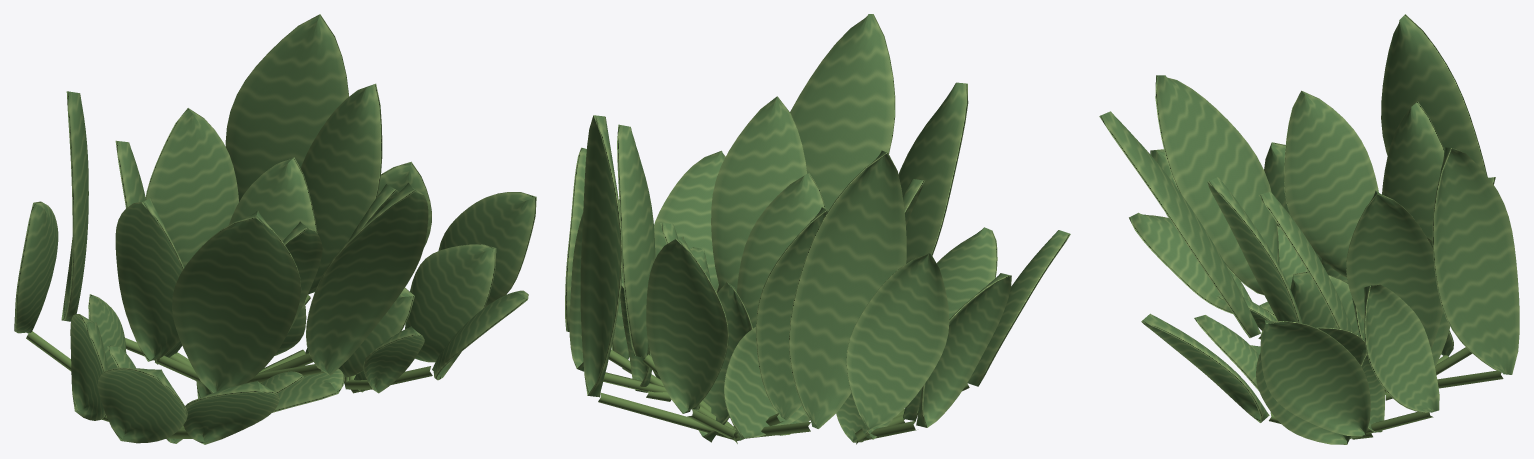
File: sansevieria-stage-7.glb
3 renders of one model, left to right at view 1: azimuth 30°, elevation 25°; view 2: azimuth 150°, elevation 25°; view 3: azimuth 270°, elevation 25°, orthographic. The views are drawn at different scales.
Parts seen in each view (by area): view 1: Leaf_20, Leaf_21, Leaf_23, Leaf_11, Leaf_9, Leaf_10, Leaf_28, Leaf_31, Leaf_26, Leaf_6, Leaf_24, Leaf_27 (+14 smaller); view 2: Leaf_22, Leaf_23, Leaf_27, Leaf_9, Leaf_8, Leaf_21, Leaf_20, Leaf_5, Leaf_11, Leaf_25, Leaf_7, PlantBranches (+11 smaller); view 3: Leaf_21, Leaf_20, Leaf_10, Leaf_31, Leaf_11, Leaf_22, Leaf_29, Leaf_23, Leaf_5, Leaf_8, Leaf_24, Leaf_30 (+11 smaller).
Part boxes in pixels (<box>): Leaf_20: <box>172,210,301,393</box>; Leaf_21: <box>225,14,348,201</box>; Leaf_23: <box>306,182,428,375</box>; Leaf_11: <box>300,83,382,294</box>; Leaf_9: <box>145,108,238,267</box>; Leaf_10: <box>115,197,184,361</box>; Leaf_28: <box>405,244,496,362</box>; Leaf_31: <box>438,192,536,307</box>; Leaf_26: <box>97,367,187,443</box>; Leaf_6: <box>228,157,317,241</box>; Leaf_24: <box>183,381,279,444</box>; Leaf_27: <box>14,201,58,333</box>; Leaf_22: <box>789,150,906,428</box>; Leaf_23: <box>790,14,895,210</box>; Leaf_27: <box>846,253,949,429</box>; Leaf_9: <box>646,237,728,413</box>; Leaf_8: <box>711,96,807,291</box>; Leaf_21: <box>580,115,622,397</box>; Leaf_20: <box>898,82,968,263</box>; Leaf_5: <box>756,207,827,420</box>; Leaf_11: <box>617,124,655,357</box>; Leaf_25: <box>916,273,1011,427</box>; Leaf_7: <box>737,173,825,328</box>; PlantBranches: <box>598,349,969,444</box>; Leaf_21: <box>1432,147,1519,374</box>; Leaf_20: <box>1155,75,1279,294</box>; Leaf_10: <box>1284,90,1378,277</box>; Leaf_31: <box>1260,320,1370,435</box>; Leaf_11: <box>1346,190,1442,349</box>; Leaf_22: <box>1381,14,1487,175</box>; Leaf_29: <box>1363,284,1439,412</box>; Leaf_23: <box>1099,111,1260,337</box>; Leaf_5: <box>1382,101,1444,240</box>; Leaf_8: <box>1207,177,1302,323</box>; Leaf_24: <box>1129,212,1252,313</box>; Leaf_30: <box>1141,313,1269,422</box>.
Bounding box in the file's own units: 2.42 × 1.76 × 2.14.
2 materials, 1 textured.
